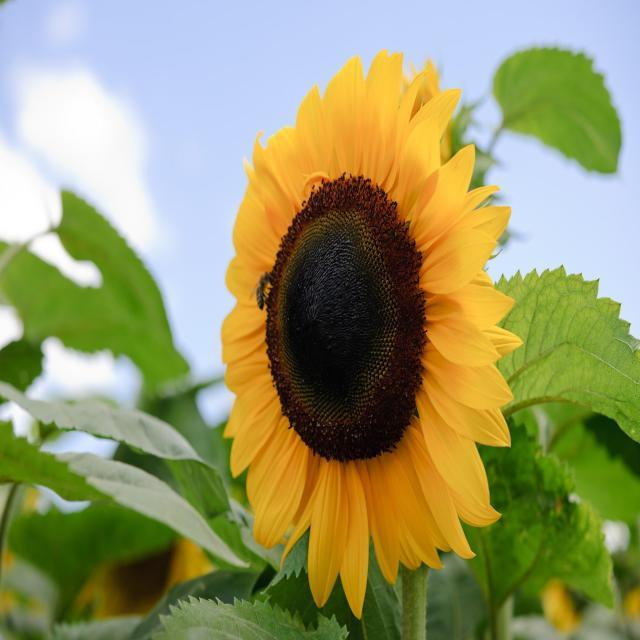sunflower: (220, 48, 524, 620), (71, 496, 215, 614), (396, 61, 454, 162), (541, 492, 583, 627)
